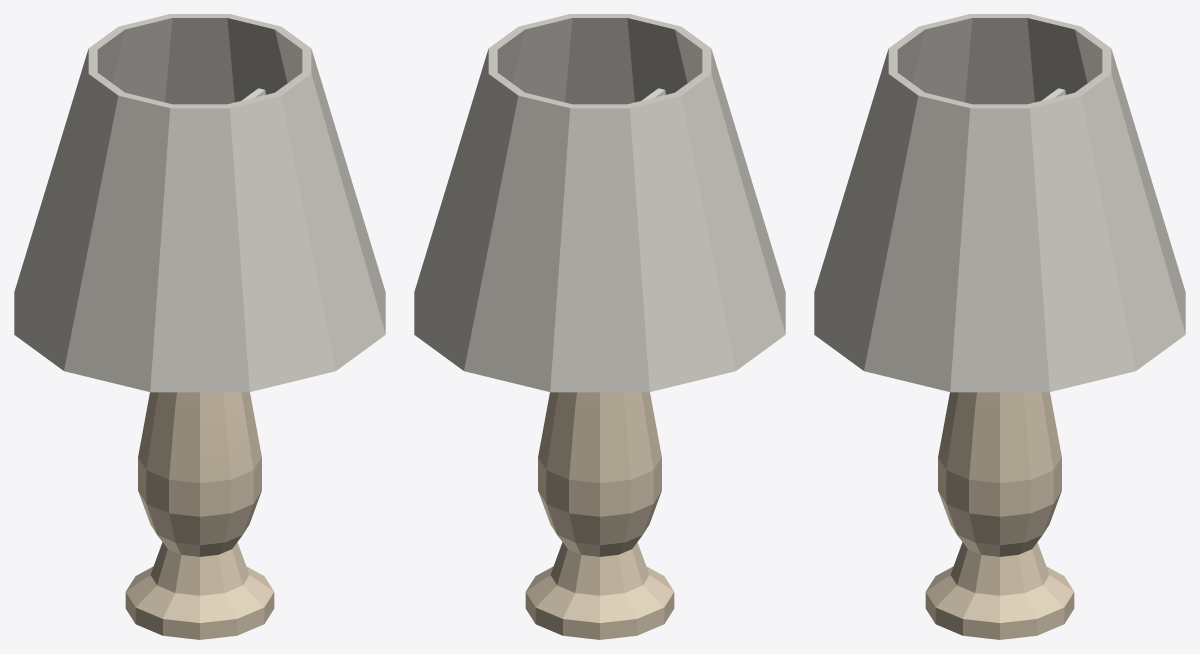
File: Prop_Misc_Lamp.glb
The picture shows the model from 3 angles, left to right: view 1: azimuth 30°, elevation 25°; view 2: azimuth 150°, elevation 25°; view 3: azimuth 270°, elevation 25°; orthographic projection.
Visible parts, largest first — view 1: Prop_Misc_Lamp; view 2: Prop_Misc_Lamp; view 3: Prop_Misc_Lamp.
Part boxes in pixels (x1,y1,x2,y2): Prop_Misc_Lamp: (14,14,385,639); Prop_Misc_Lamp: (414,14,785,639); Prop_Misc_Lamp: (814,14,1185,639).
Bounding box in the file's own units: 0.5 × 0.8128 × 0.5.
